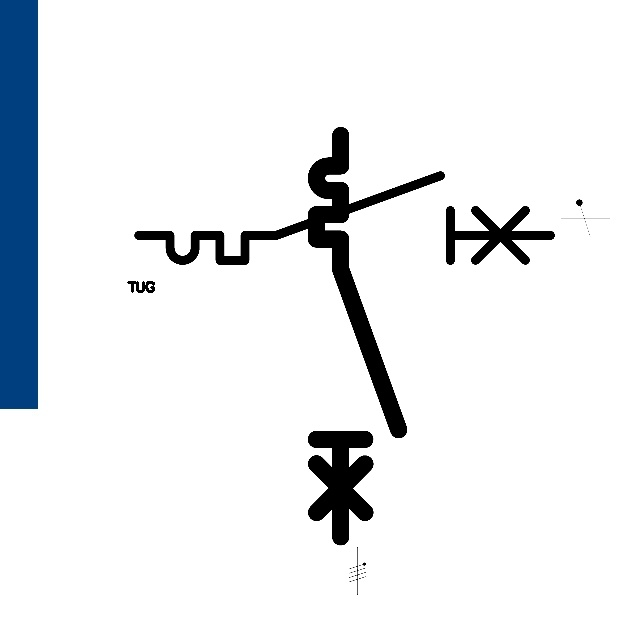interruptor_termomagnetico: (128, 165, 561, 271), (306, 125, 409, 547)
